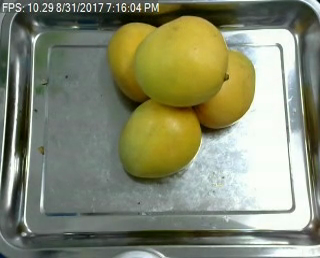Mango: (133, 17, 229, 108), (121, 95, 202, 179), (108, 22, 178, 102), (190, 50, 255, 128)
